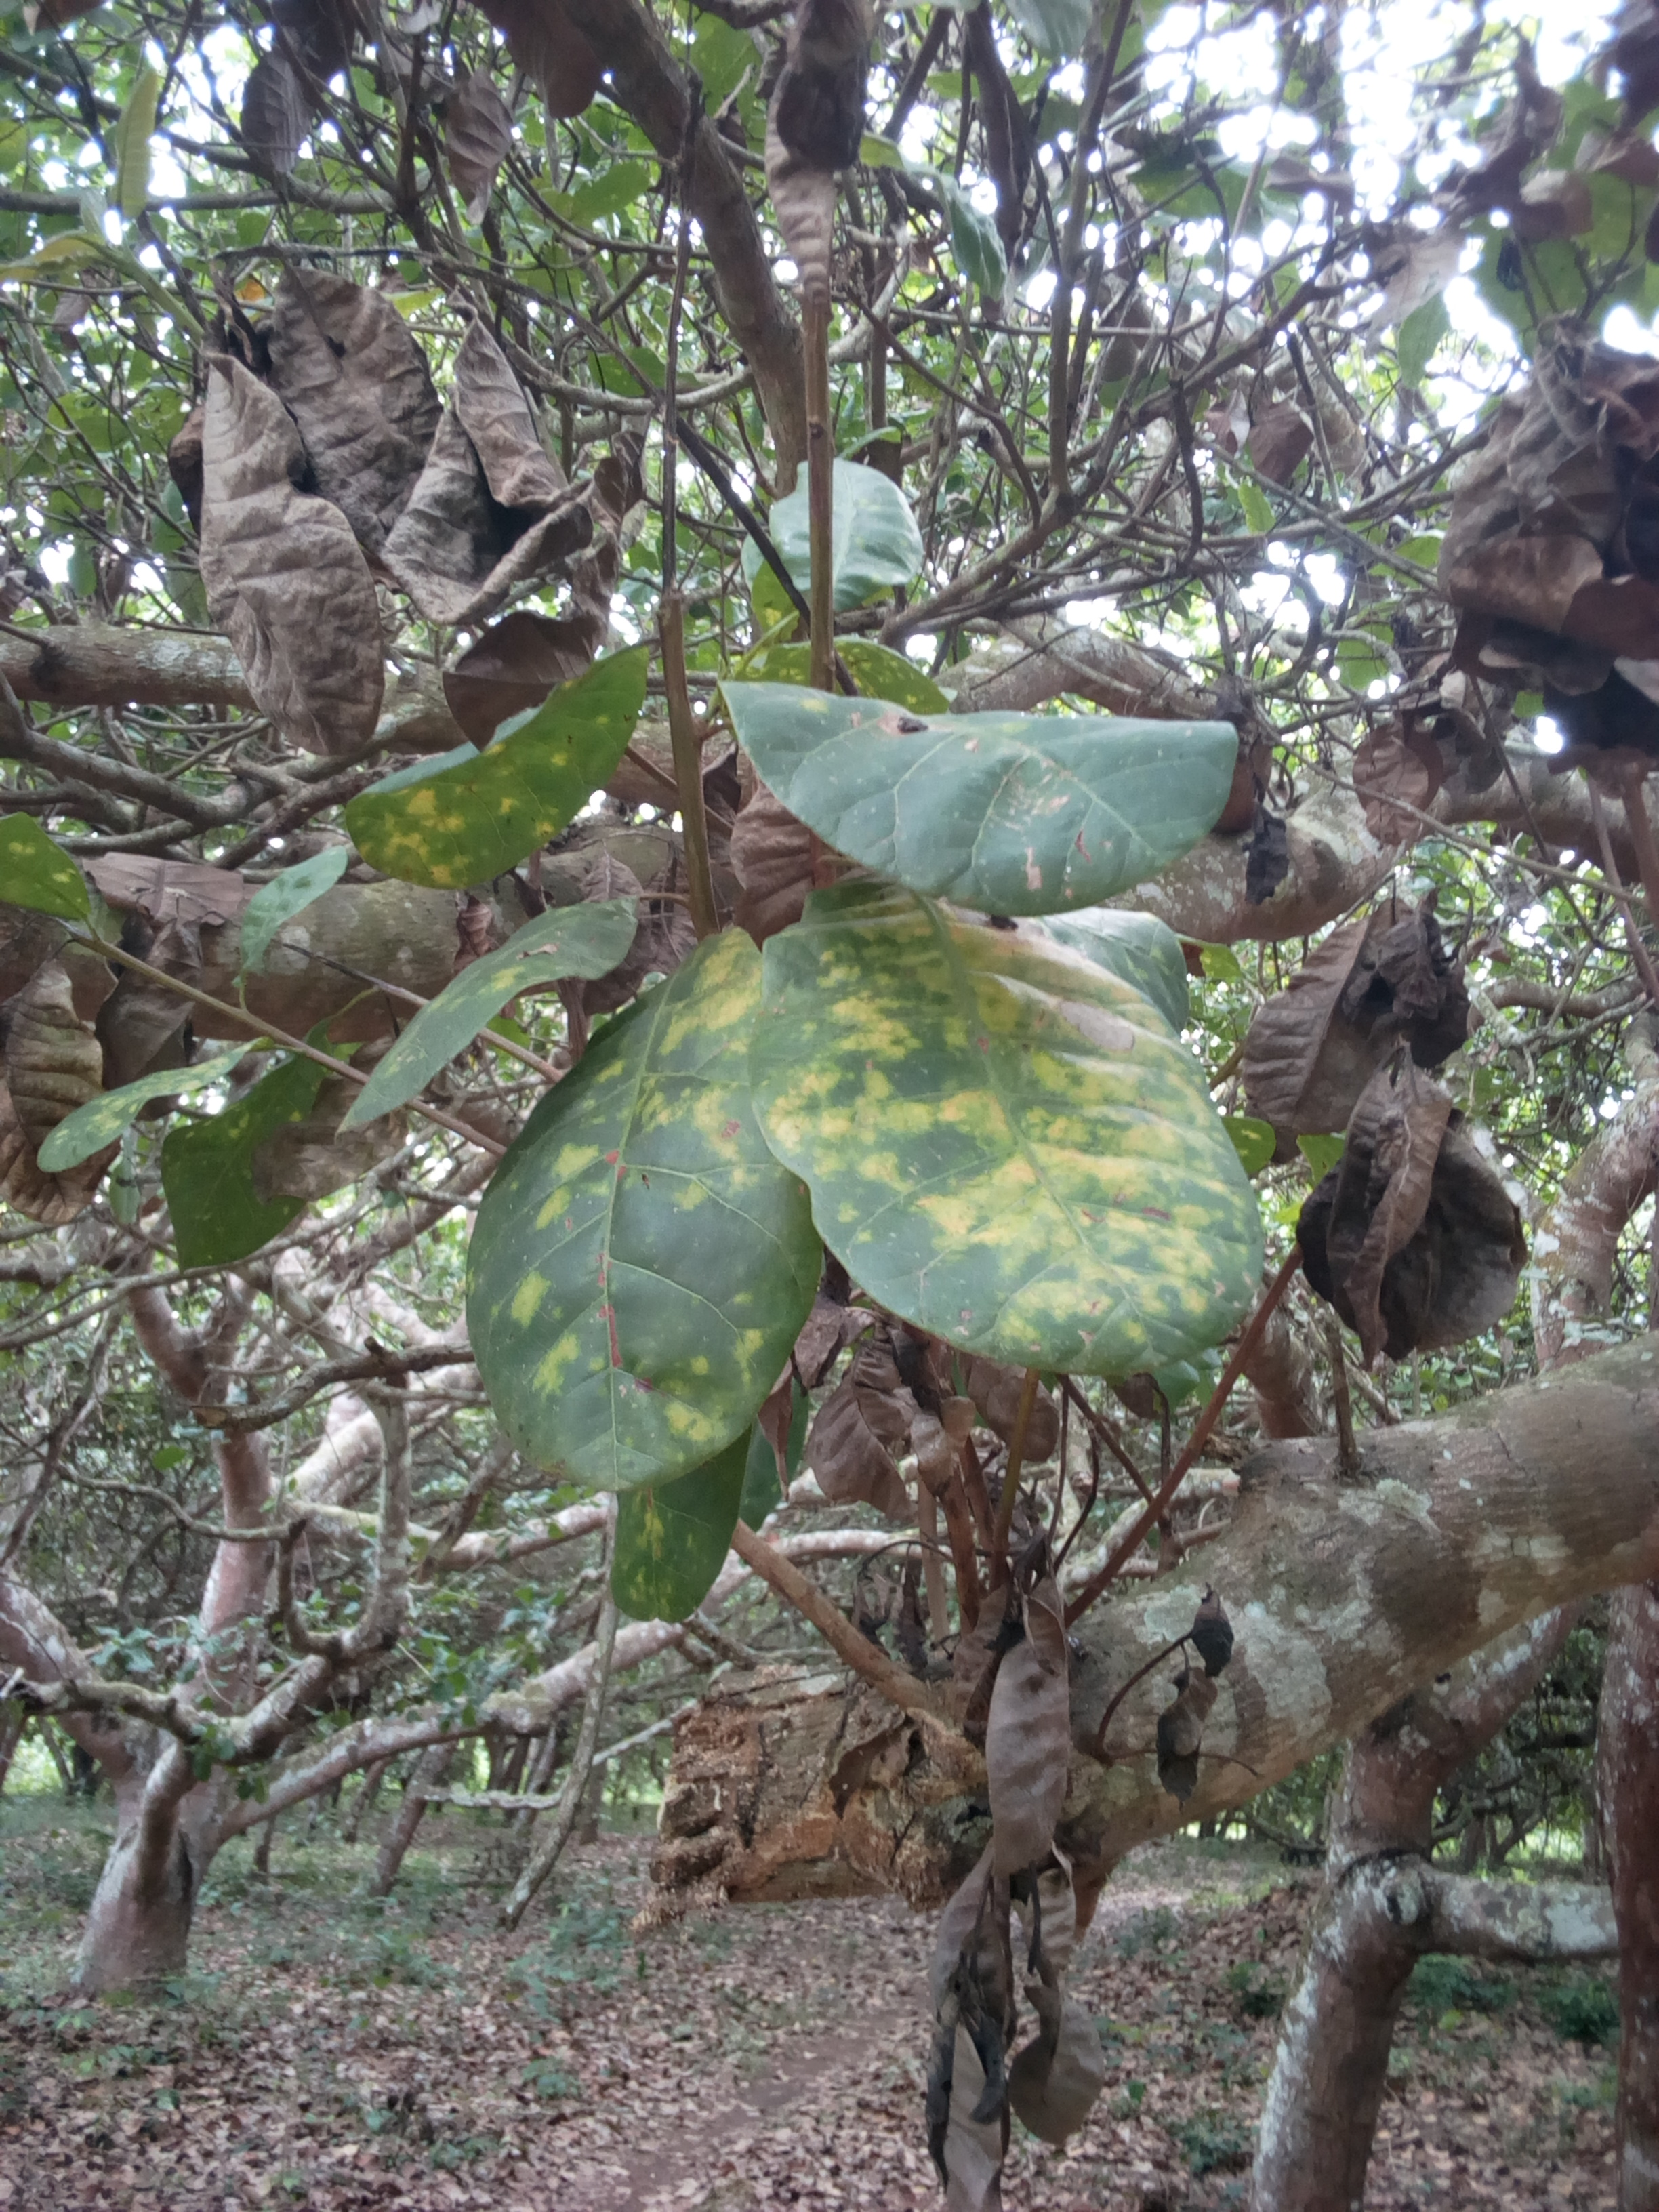Carence minérale: (744, 862, 1263, 1407), (460, 944, 812, 1554), (711, 658, 1249, 916), (335, 608, 711, 906), (314, 866, 676, 1174), (9, 1045, 281, 1177), (579, 1458, 775, 1637)
